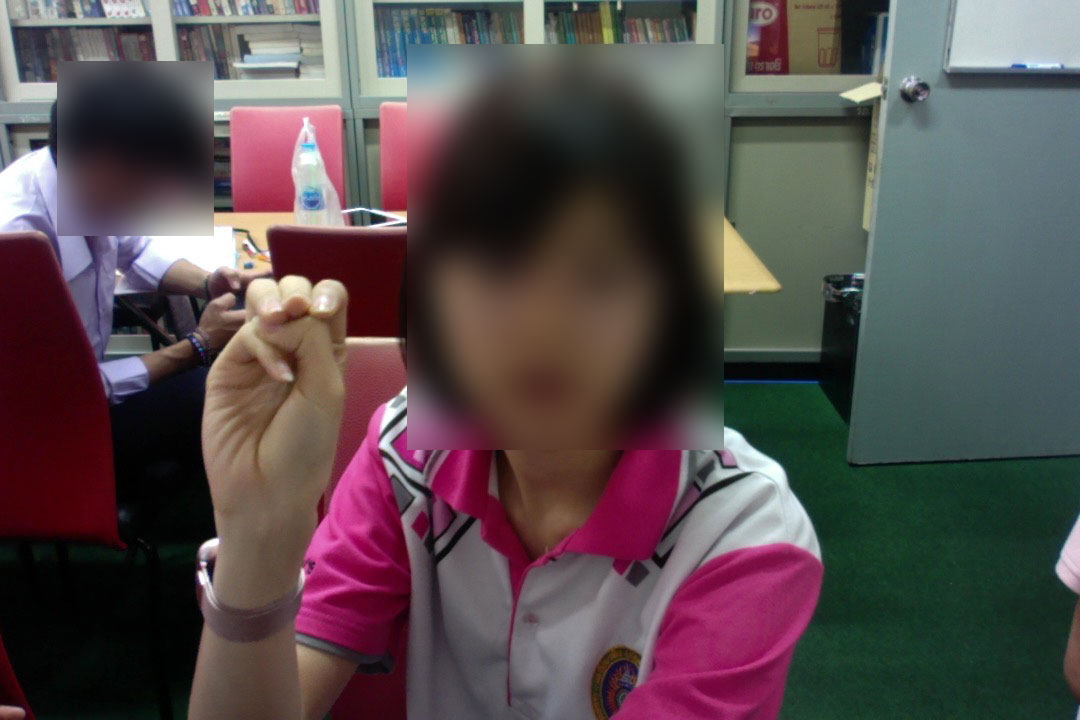mor: (195, 269, 351, 540)
